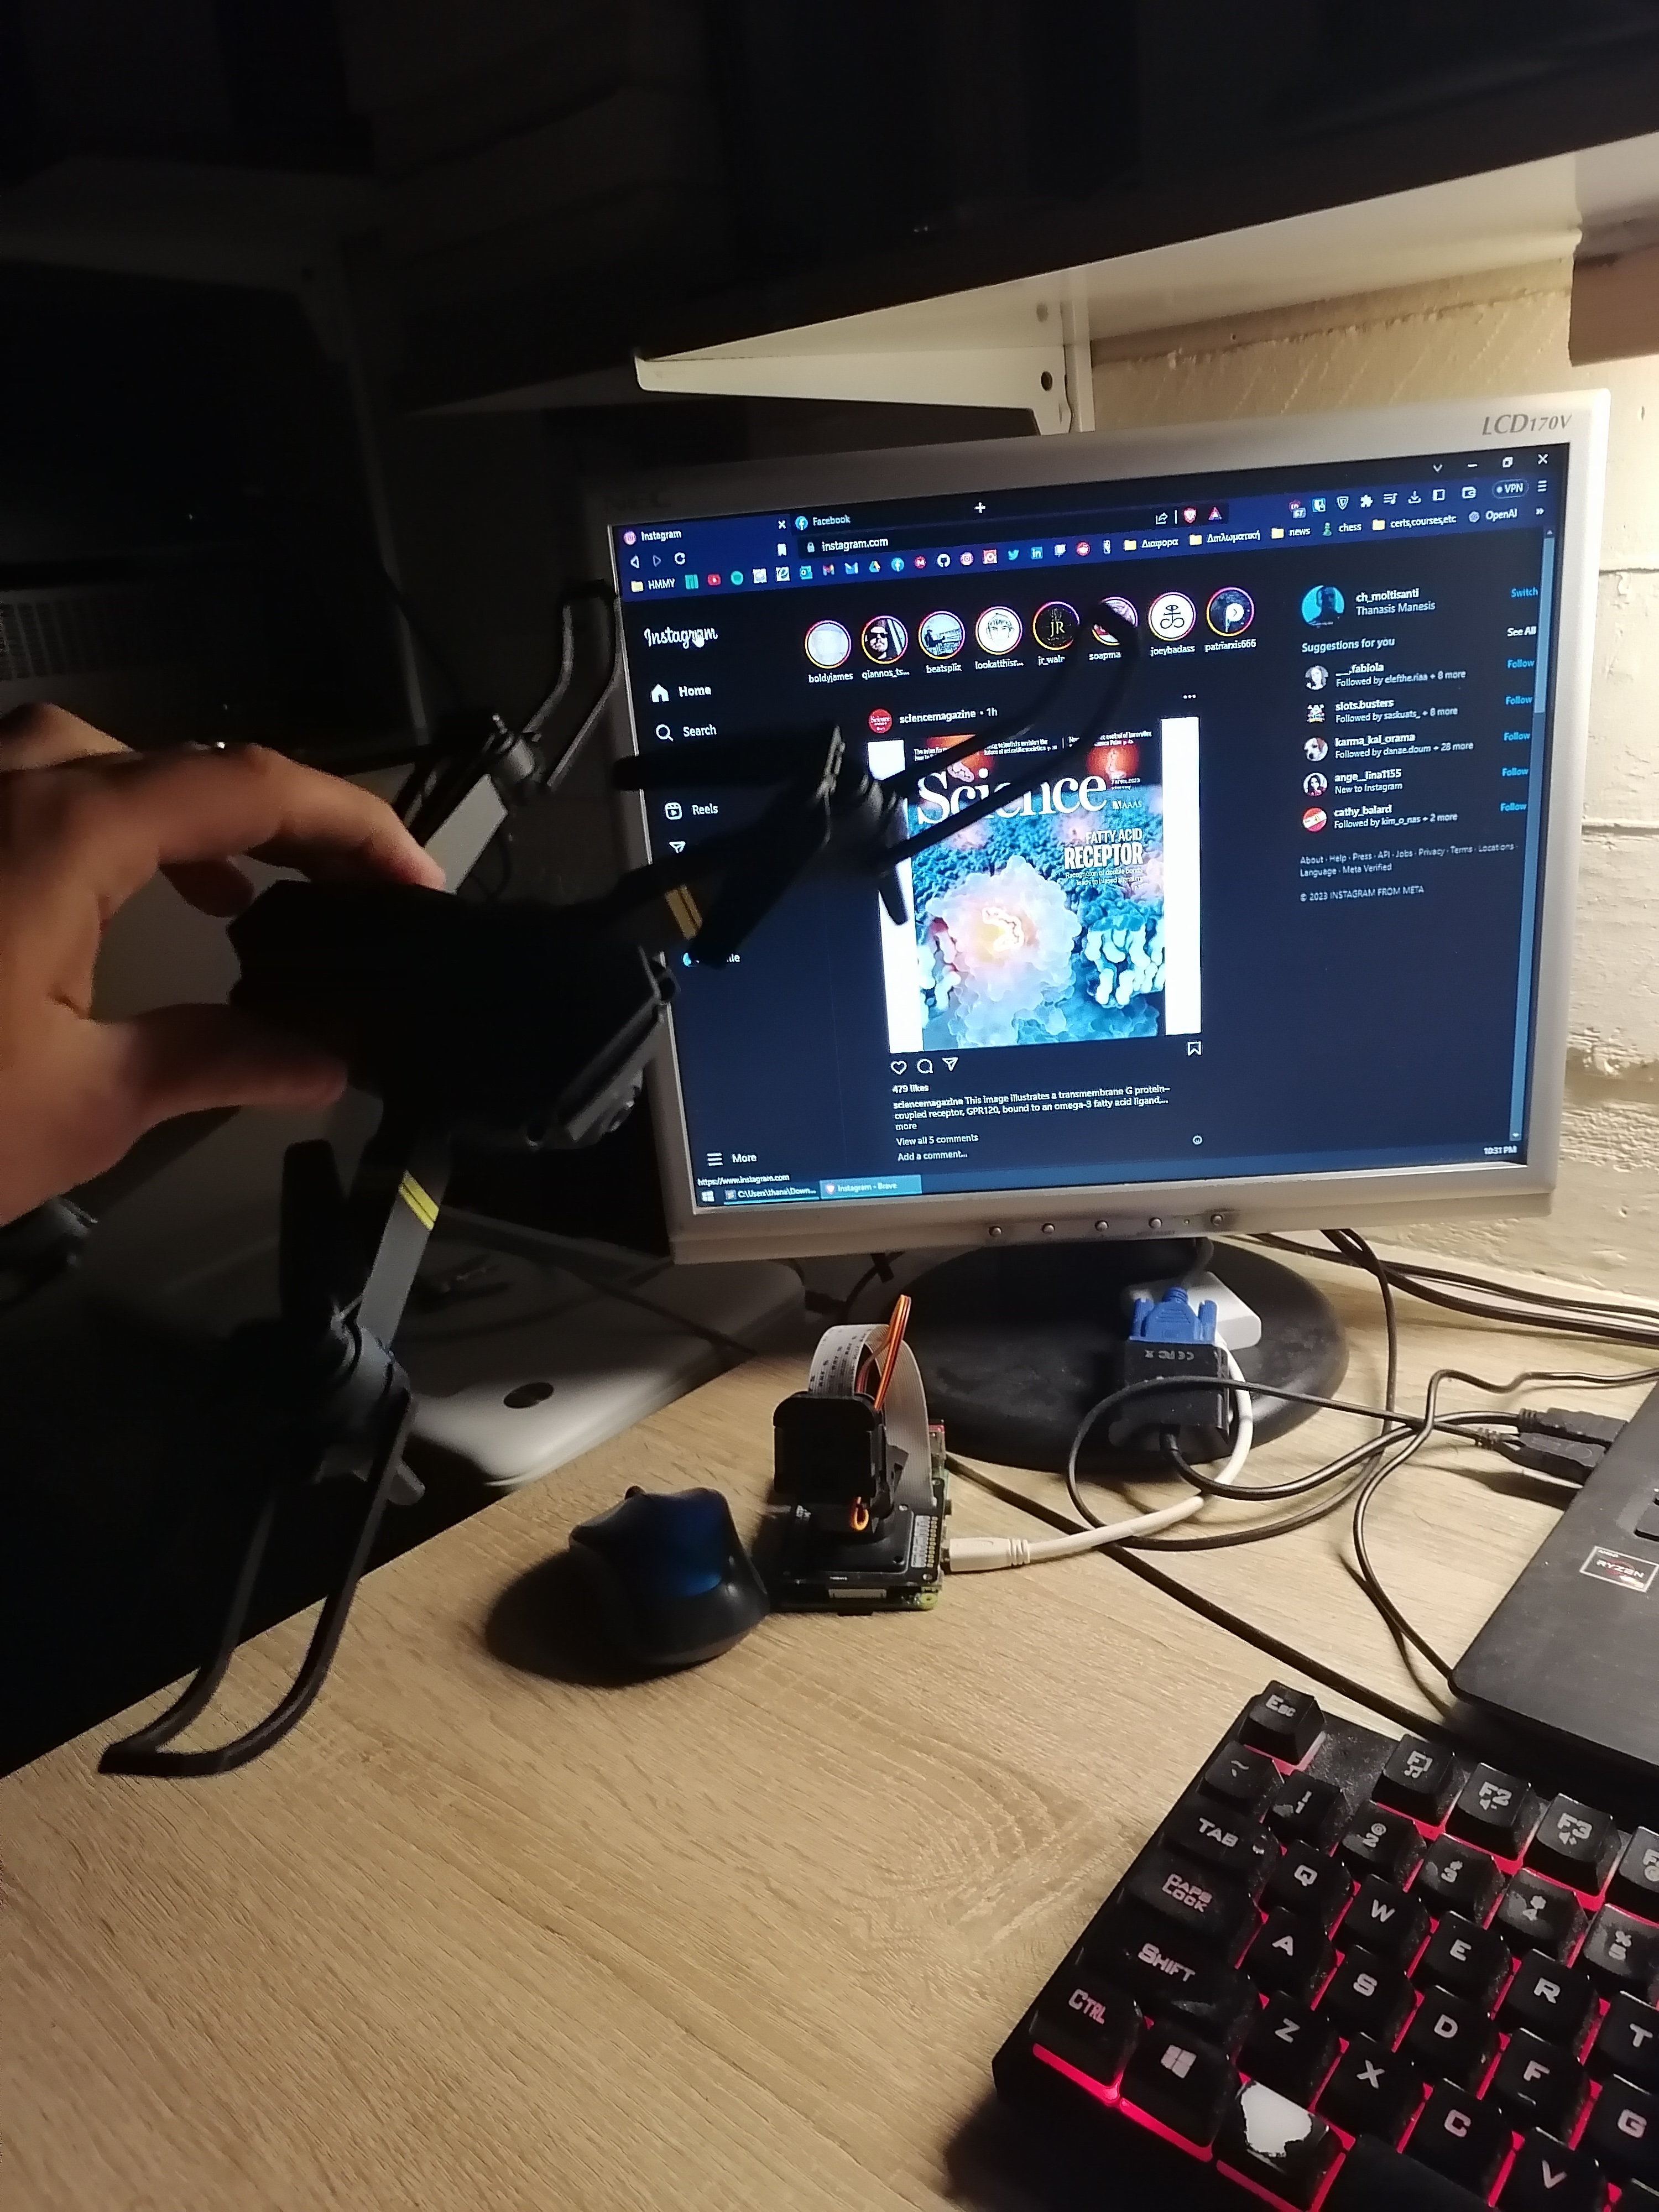drone: (61, 589, 1157, 1804)
